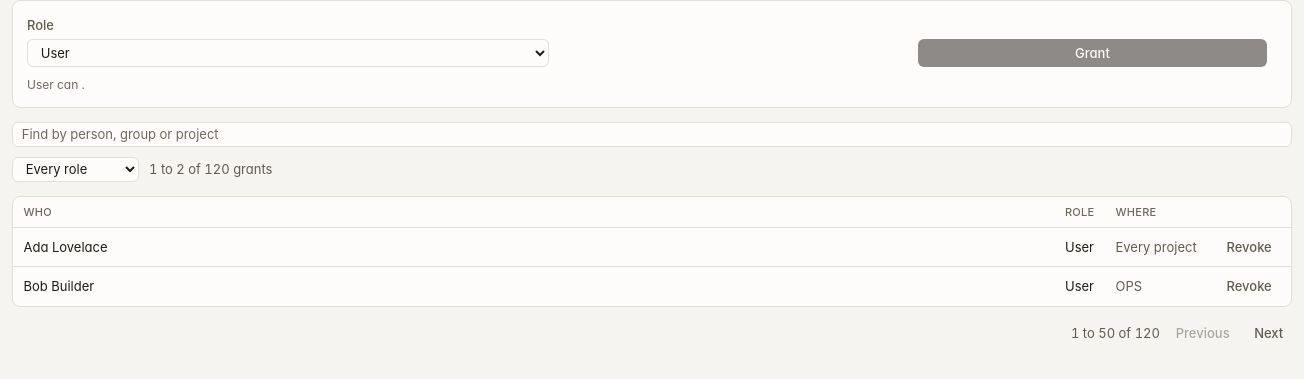
Test case: the Roles tab's grants › says when nothing matches rather than that nobody holds anything
Type "nobody" into the search field named "Find grants". click: (652, 134)
box: [12,122,1292,146]
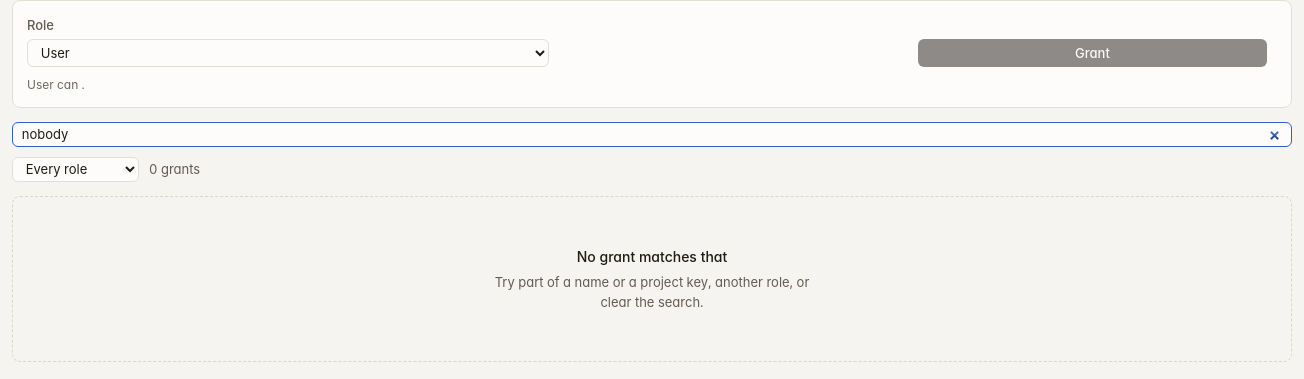
Expected: the text "No grant matches that" is shown, [577,246,727,266]
